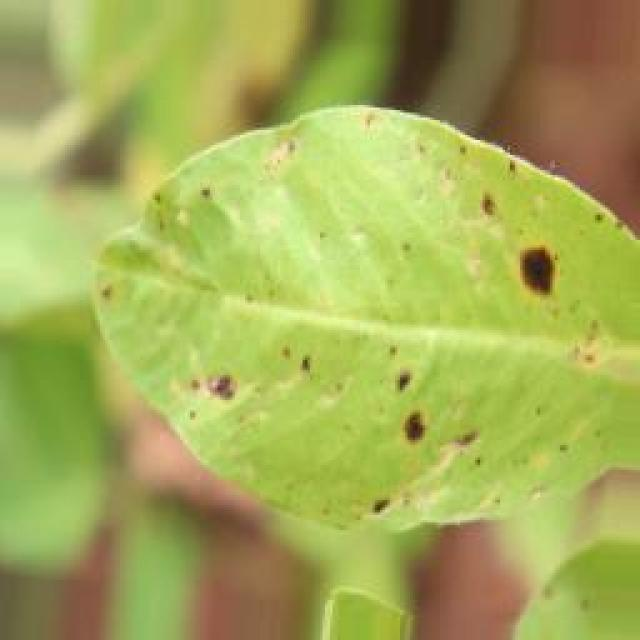Yellowish: (140, 119, 598, 509)
